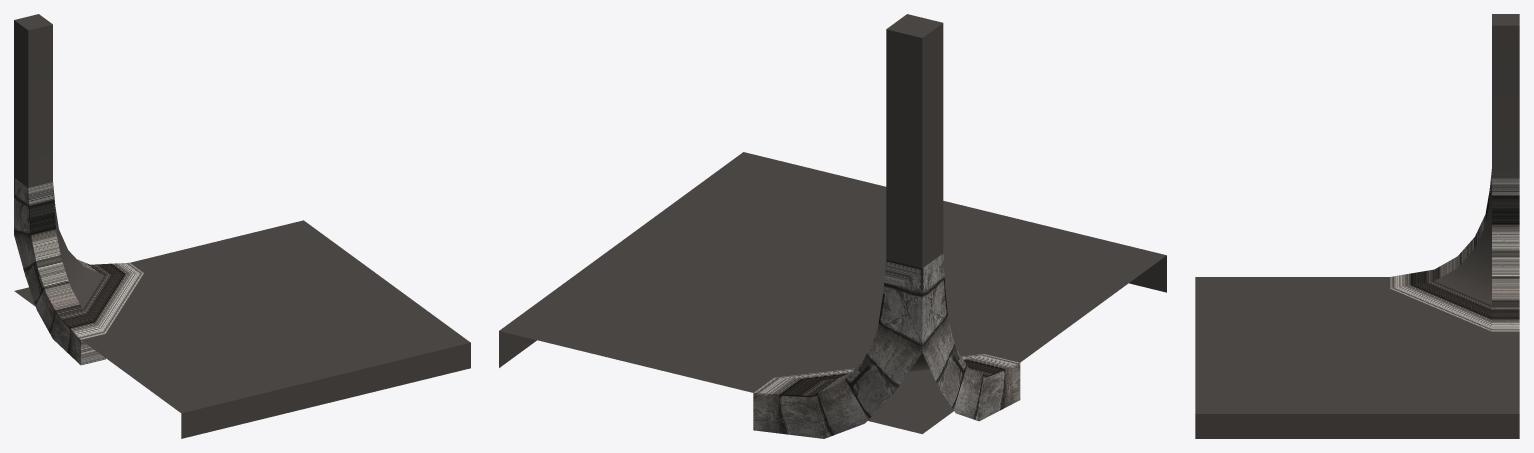
The model's file is CornerWall_01_Borderless_Fix.fbx.
The picture shows the model from 3 angles, left to right: view 1: azimuth 30°, elevation 25°; view 2: azimuth 150°, elevation 25°; view 3: azimuth 270°, elevation 25°; orthographic projection. The views are drawn at different scales.
Visible parts, largest first — view 1: CornerWall_01_Fix; view 2: CornerWall_01_Fix; view 3: CornerWall_01_Fix.
Part boxes in pixels (left/top/right/bottom): CornerWall_01_Fix: left=14, top=14, right=470, bottom=438; CornerWall_01_Fix: left=499, top=14, right=1166, bottom=438; CornerWall_01_Fix: left=1195, top=14, right=1519, bottom=438.
Size of the model in its own units: 453 by 443 by 453.
